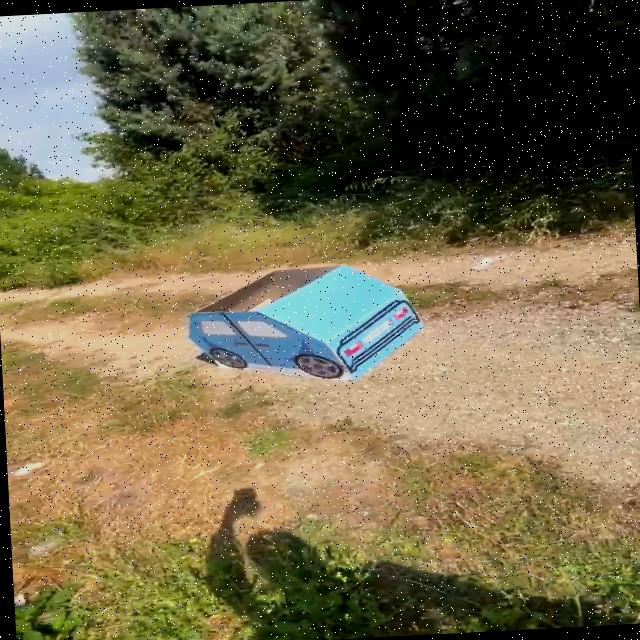blue_car: (168, 245, 452, 397)
